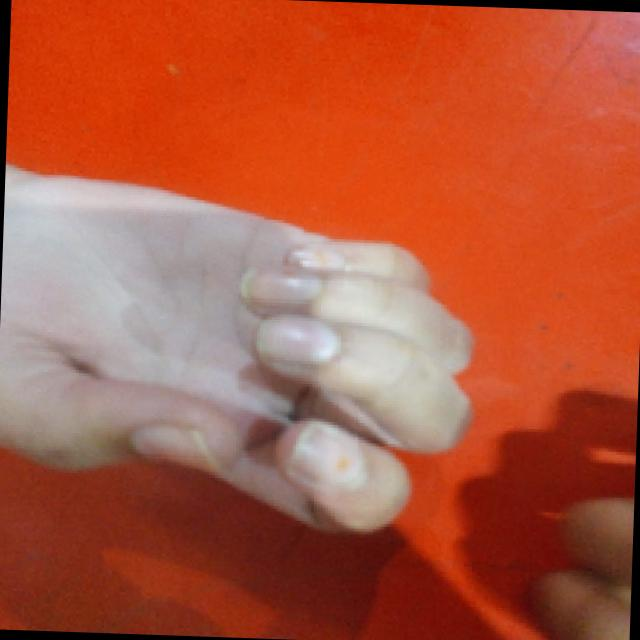Nail: (282, 419, 367, 492), (130, 423, 222, 474), (255, 314, 340, 363), (240, 266, 322, 305), (286, 243, 344, 270)
